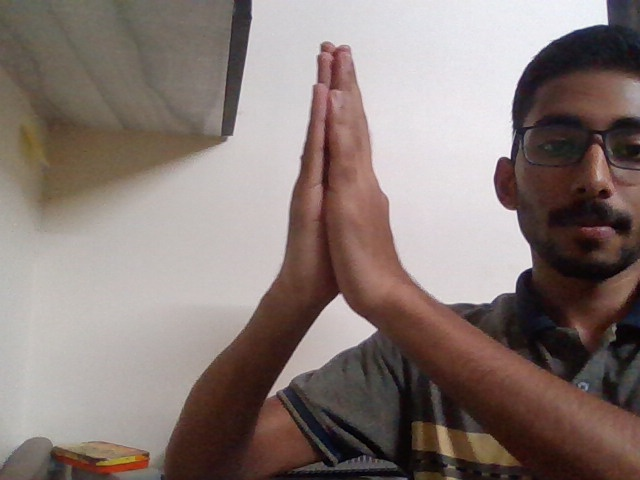Thank You: (271, 24, 414, 360)
